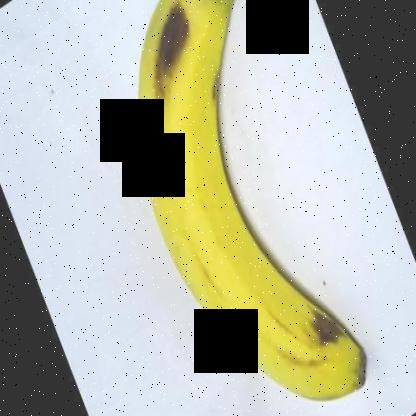freshripe: (119, 0, 376, 410)
